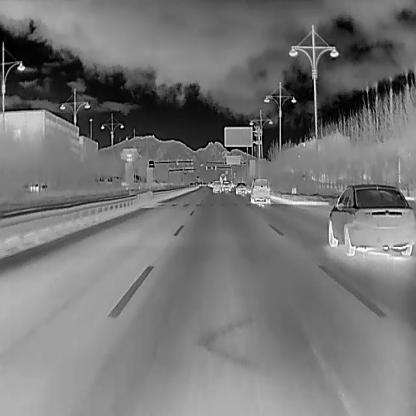car: (327, 182, 415, 256), (249, 176, 271, 204), (233, 181, 247, 195), (211, 180, 221, 193), (220, 179, 230, 191), (219, 171, 226, 181), (188, 182, 193, 186), (198, 181, 202, 185)
crosswalk: (164, 194, 245, 211)
